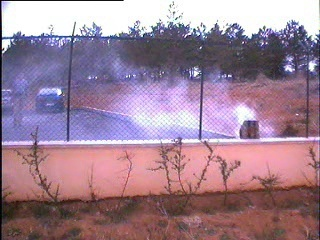smoke: (113, 69, 255, 141)
